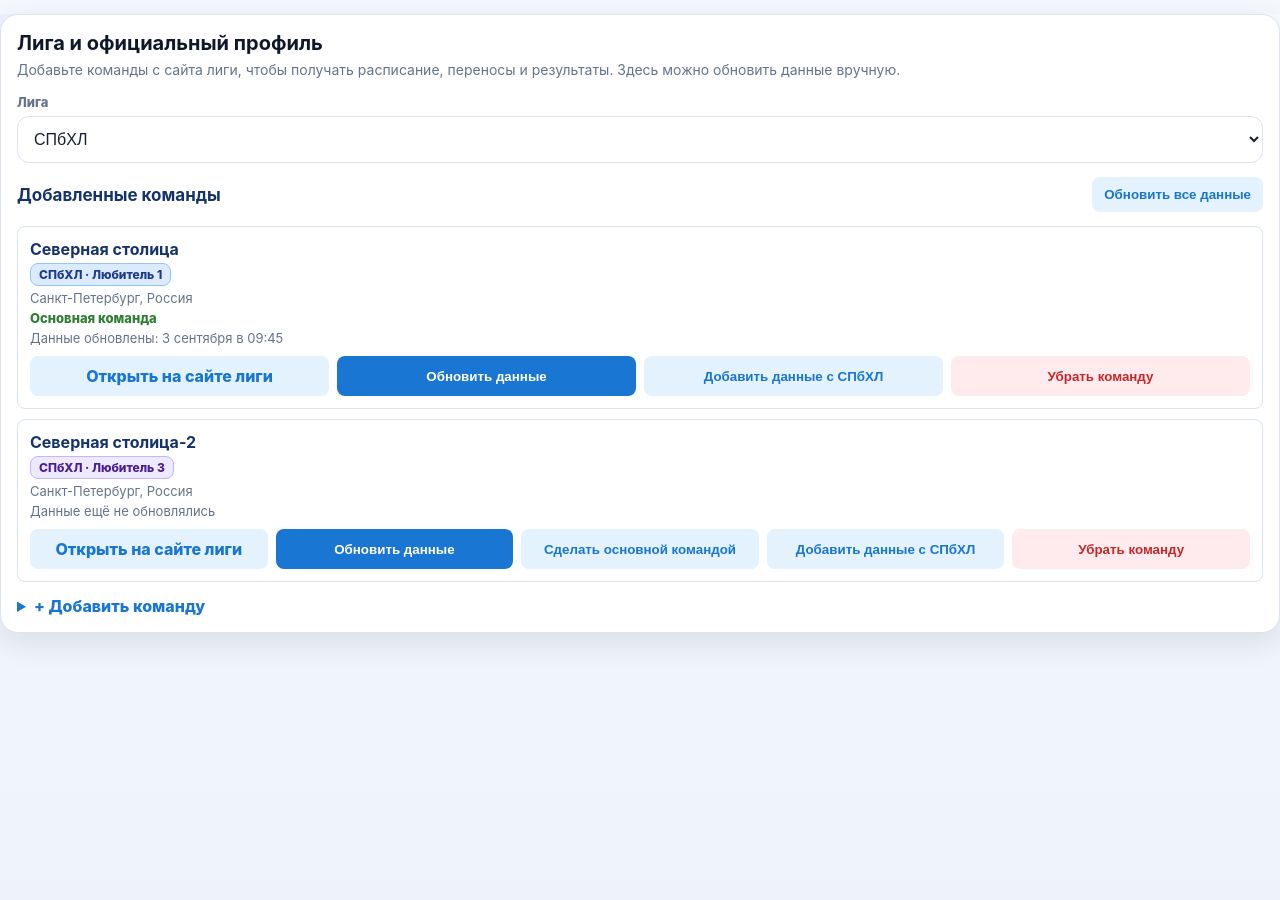
Test case: synchronizes one link and all links without hiding cards
Click the button "Обновить данные" below "Данные обновлены: 3 сентября в 09:45" at (486, 376), box left=337, top=356, right=636, bottom=396
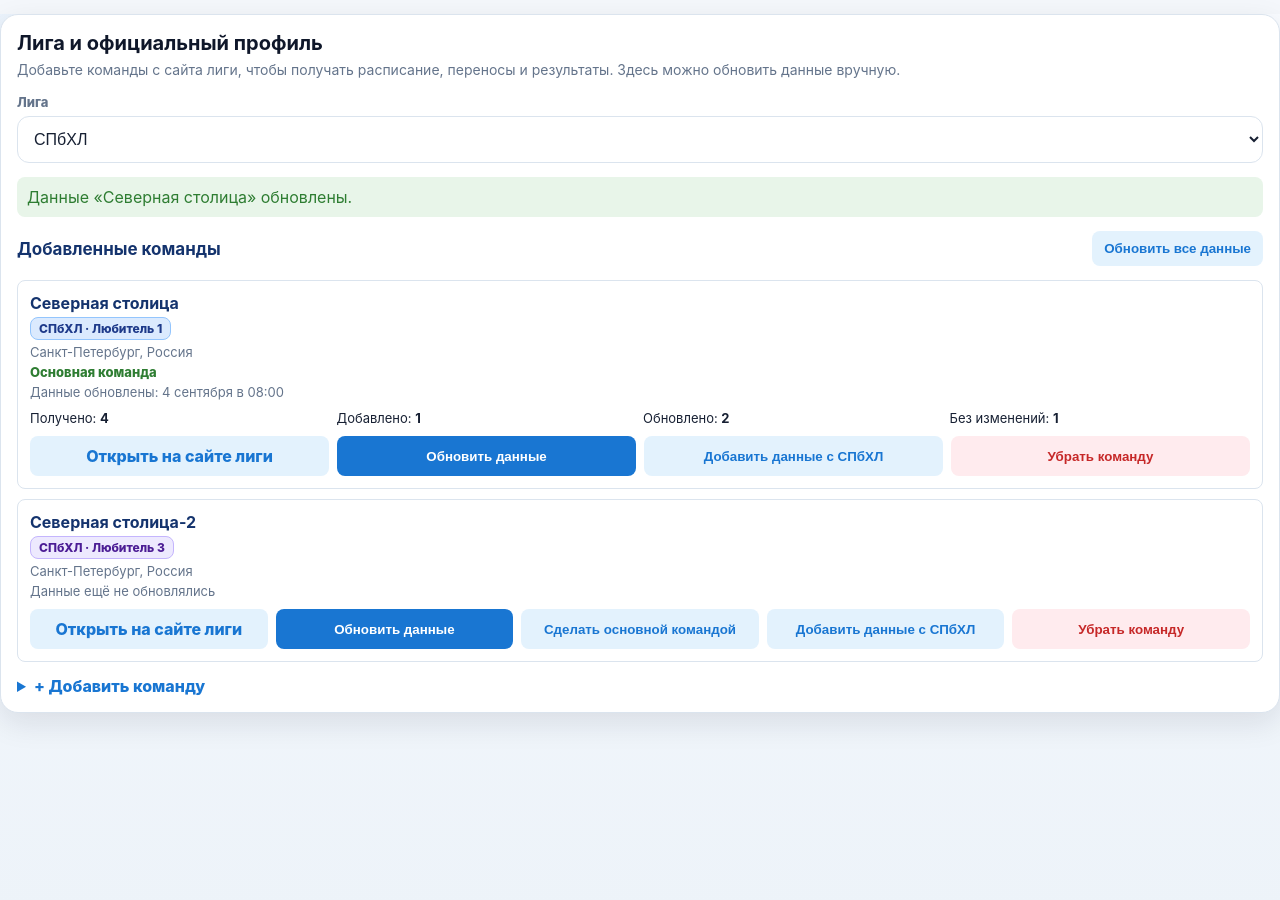
Expected: the text "Получено:" is shown, left=30, top=410, right=100, bottom=426
Click the button "Обновить все данные" at (1178, 249), box left=1092, top=231, right=1263, bottom=266
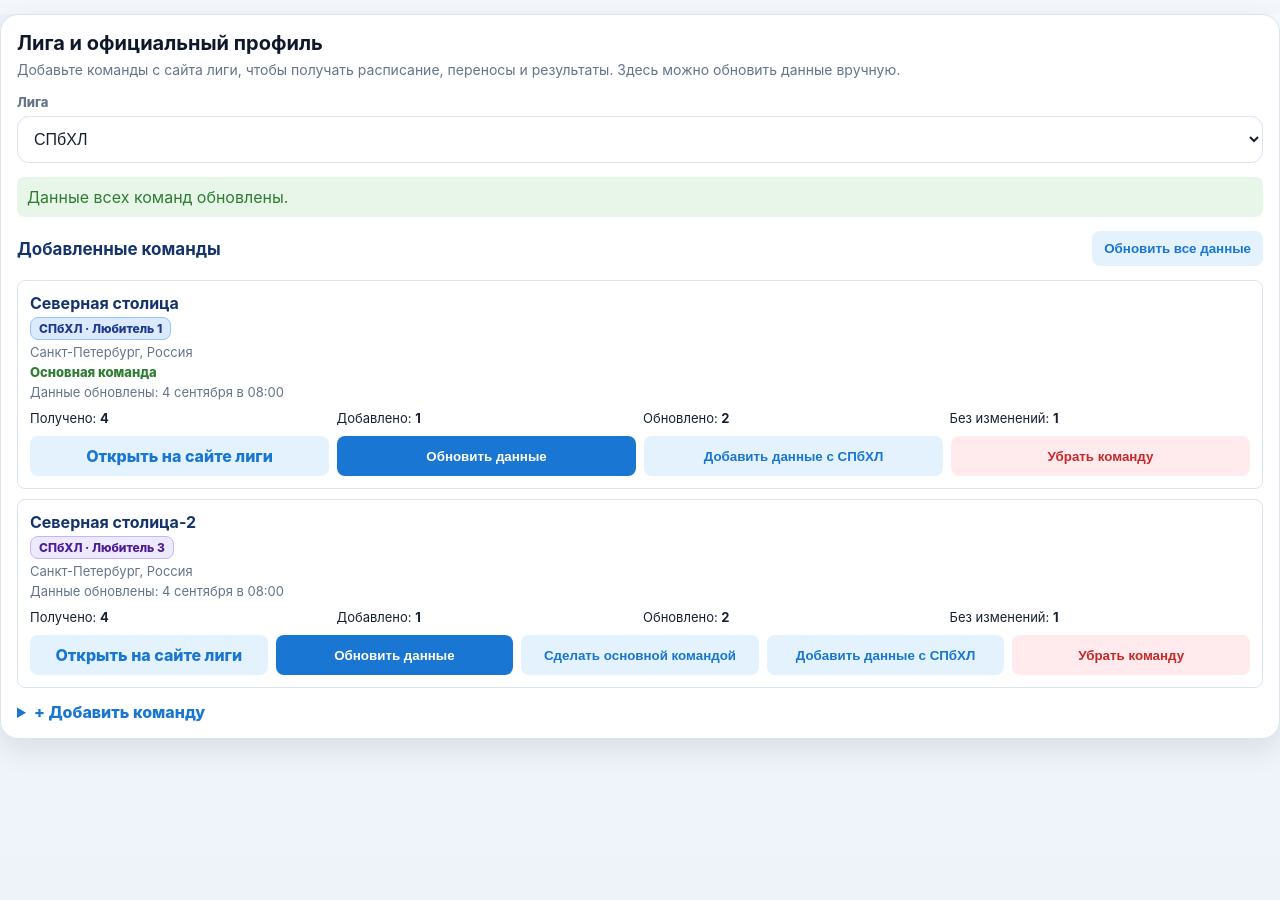
Expected: the text "Северная столица" is shown, left=30, top=293, right=179, bottom=313
Expected: the text "Получено:" below "· Любитель 3" is shown, left=30, top=609, right=100, bottom=625
